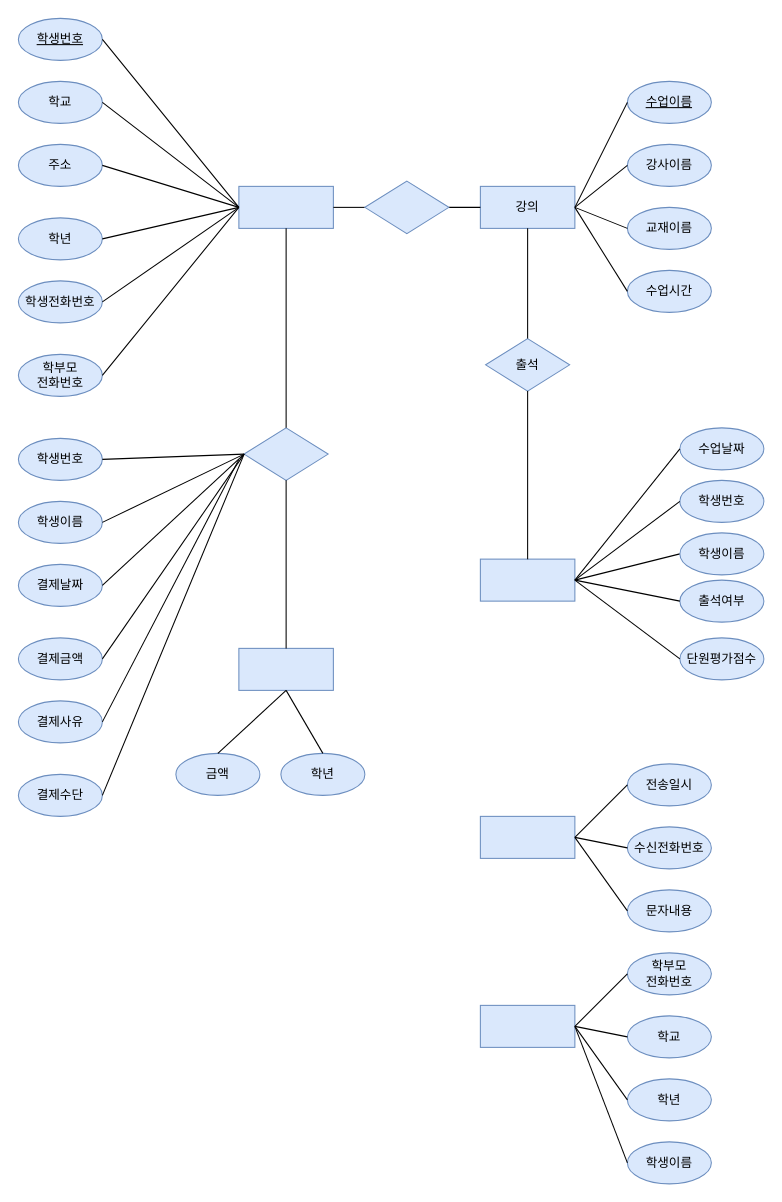
The diagram is 782 pixels wide and 1202 high, and some of its shapes have lost their labels. Here are the shapes that lost their labels. From the top down, the centre of each, then its label:
At pixel 285 206: "학생".
At pixel 406 207: "수강".
At pixel 285 453: "납입".
At pixel 527 579: "출석부".
At pixel 285 668: "원비".
At pixel 527 836: "문자".
At pixel 527 1025: "대기자".
